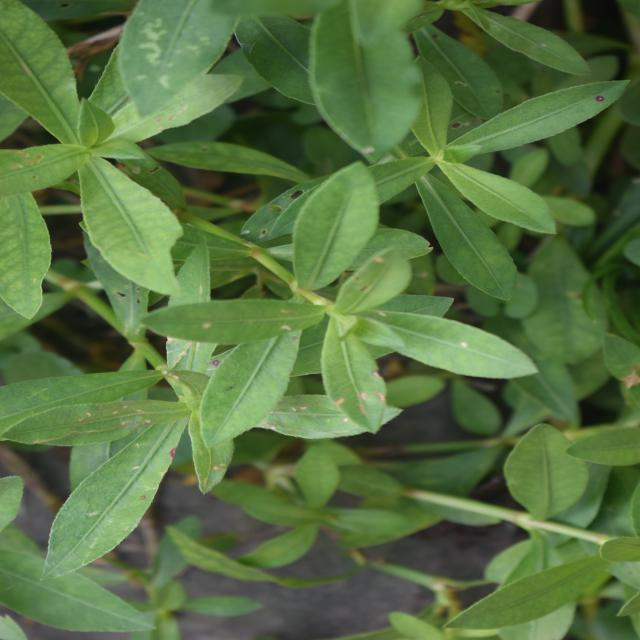Alligatorweed: (176, 168, 457, 525), (73, 45, 334, 278)
